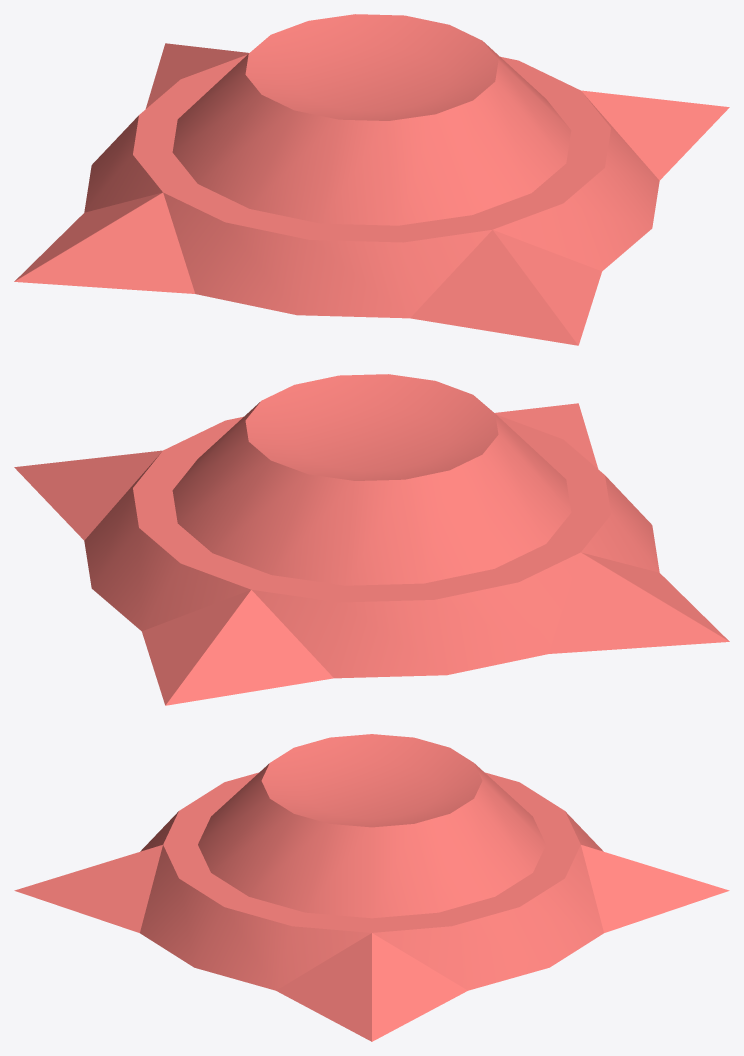
Rendered from turret.fbx.
3 views of the same model, one above another, from view 1: azimuth 30°, elevation 25°; view 2: azimuth 150°, elevation 25°; view 3: azimuth 270°, elevation 25° (orthographic). The views are drawn at different scales.
Visible parts, largest first — view 1: Cylinder; view 2: Cylinder; view 3: Cylinder.
Part boxes in pixels (x1=…): Cylinder: x1=14, y1=14, x2=729, y2=345; Cylinder: x1=14, y1=374, x2=729, y2=705; Cylinder: x1=14, y1=734, x2=729, y2=1041.
Bounding box in the file's own units: 285 × 49.11 × 285.
